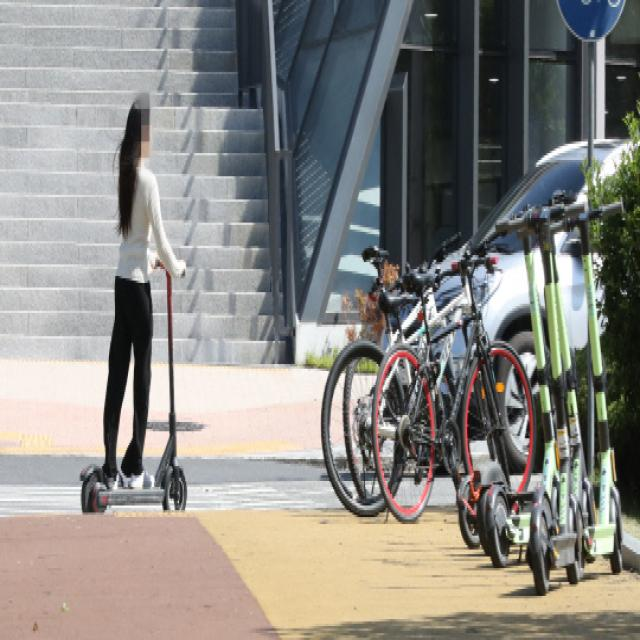non-helmet: (78, 92, 196, 514)
